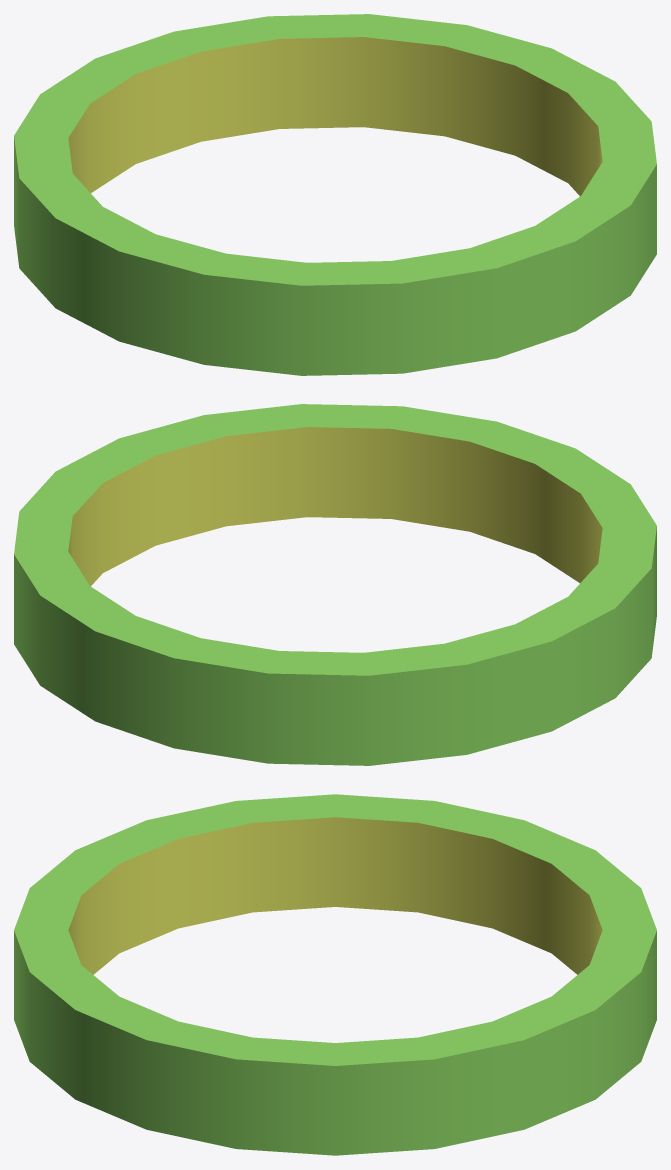
File: Platform_Ring.fbx
3 views of the same model, one above another, from view 1: azimuth 30°, elevation 25°; view 2: azimuth 150°, elevation 25°; view 3: azimuth 270°, elevation 25° (orthographic).
Visible parts, largest first — view 1: Cylinder; view 2: Cylinder; view 3: Cylinder.
Boxes of the visible parts, bbox=[...] form: Cylinder: bbox=[14, 14, 656, 375]; Cylinder: bbox=[14, 404, 656, 765]; Cylinder: bbox=[14, 794, 656, 1155].
Size of the model in its own units: 1.37 by 0.2102 by 1.37.
